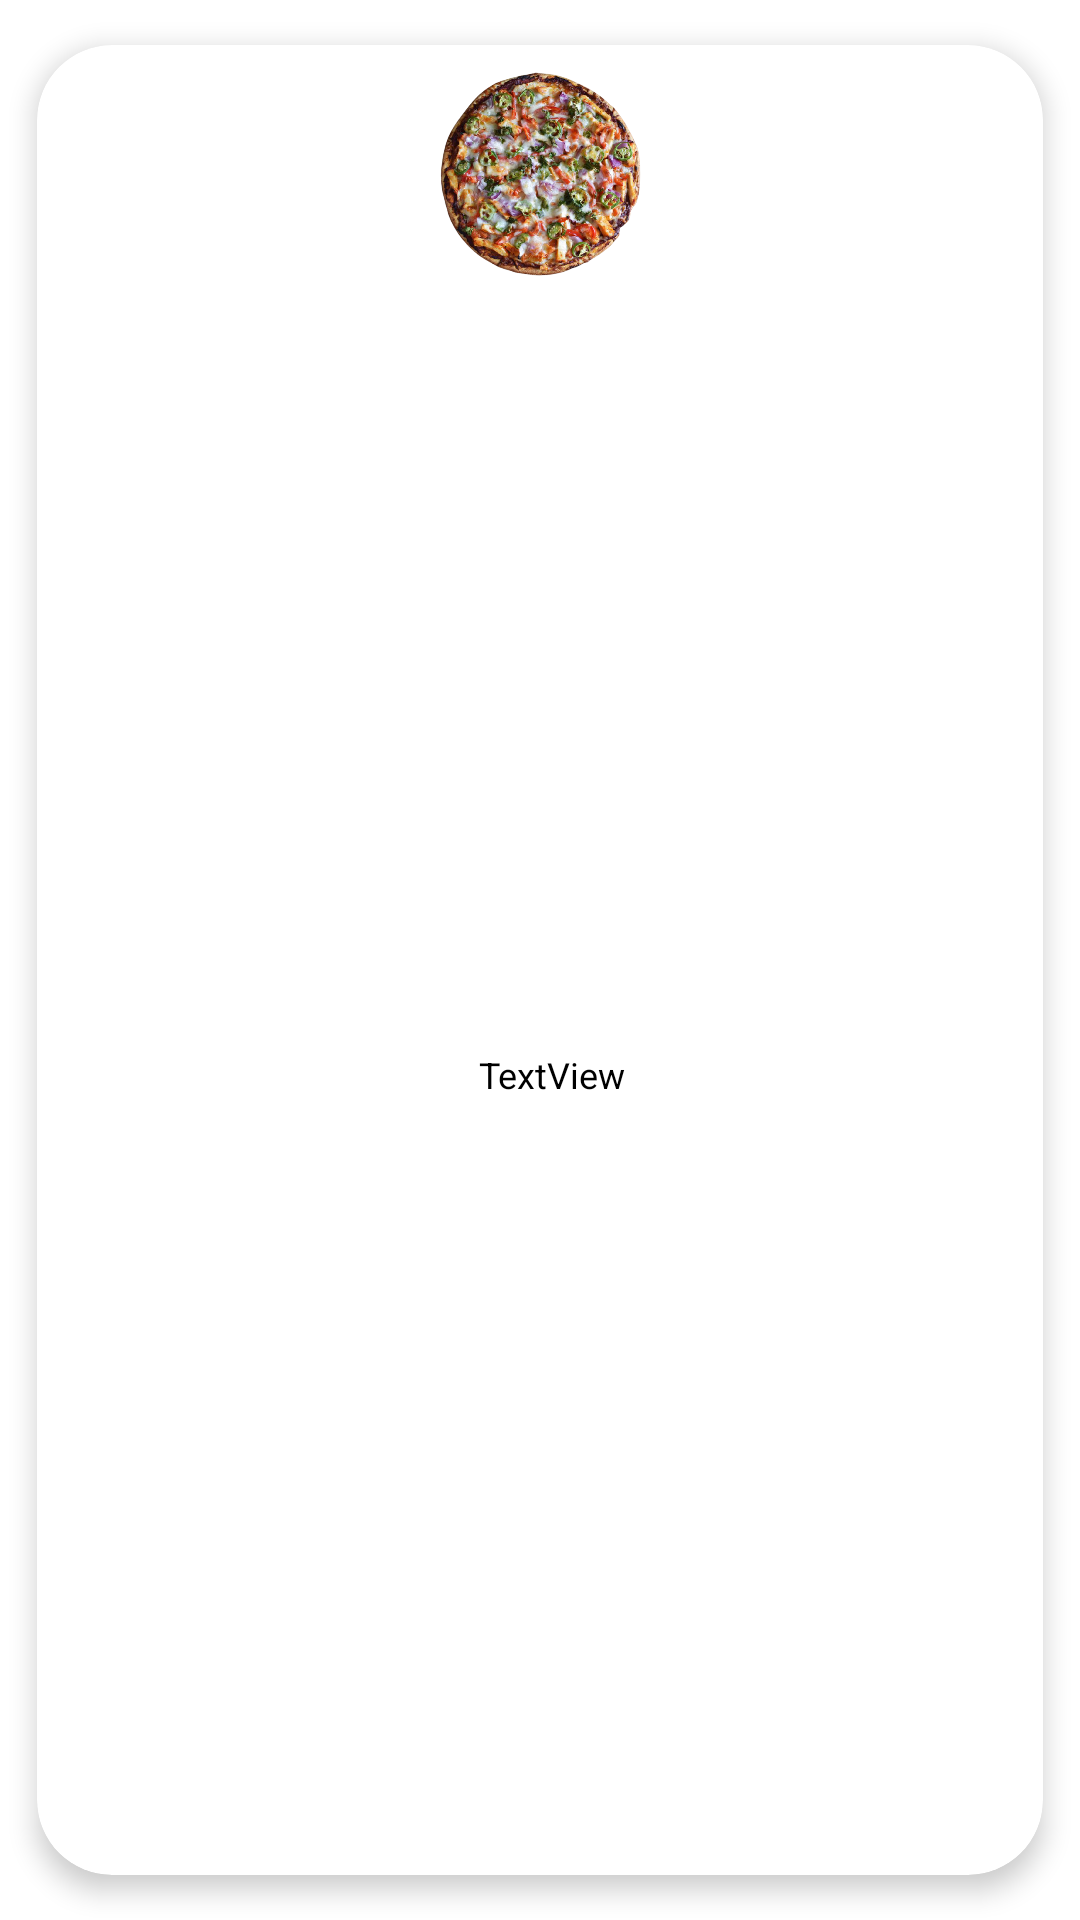

Icons on this 1080x1920 Android screen, each with its box as box(x1, y1, x2, y2):
pizza: box(441, 72, 640, 276)
